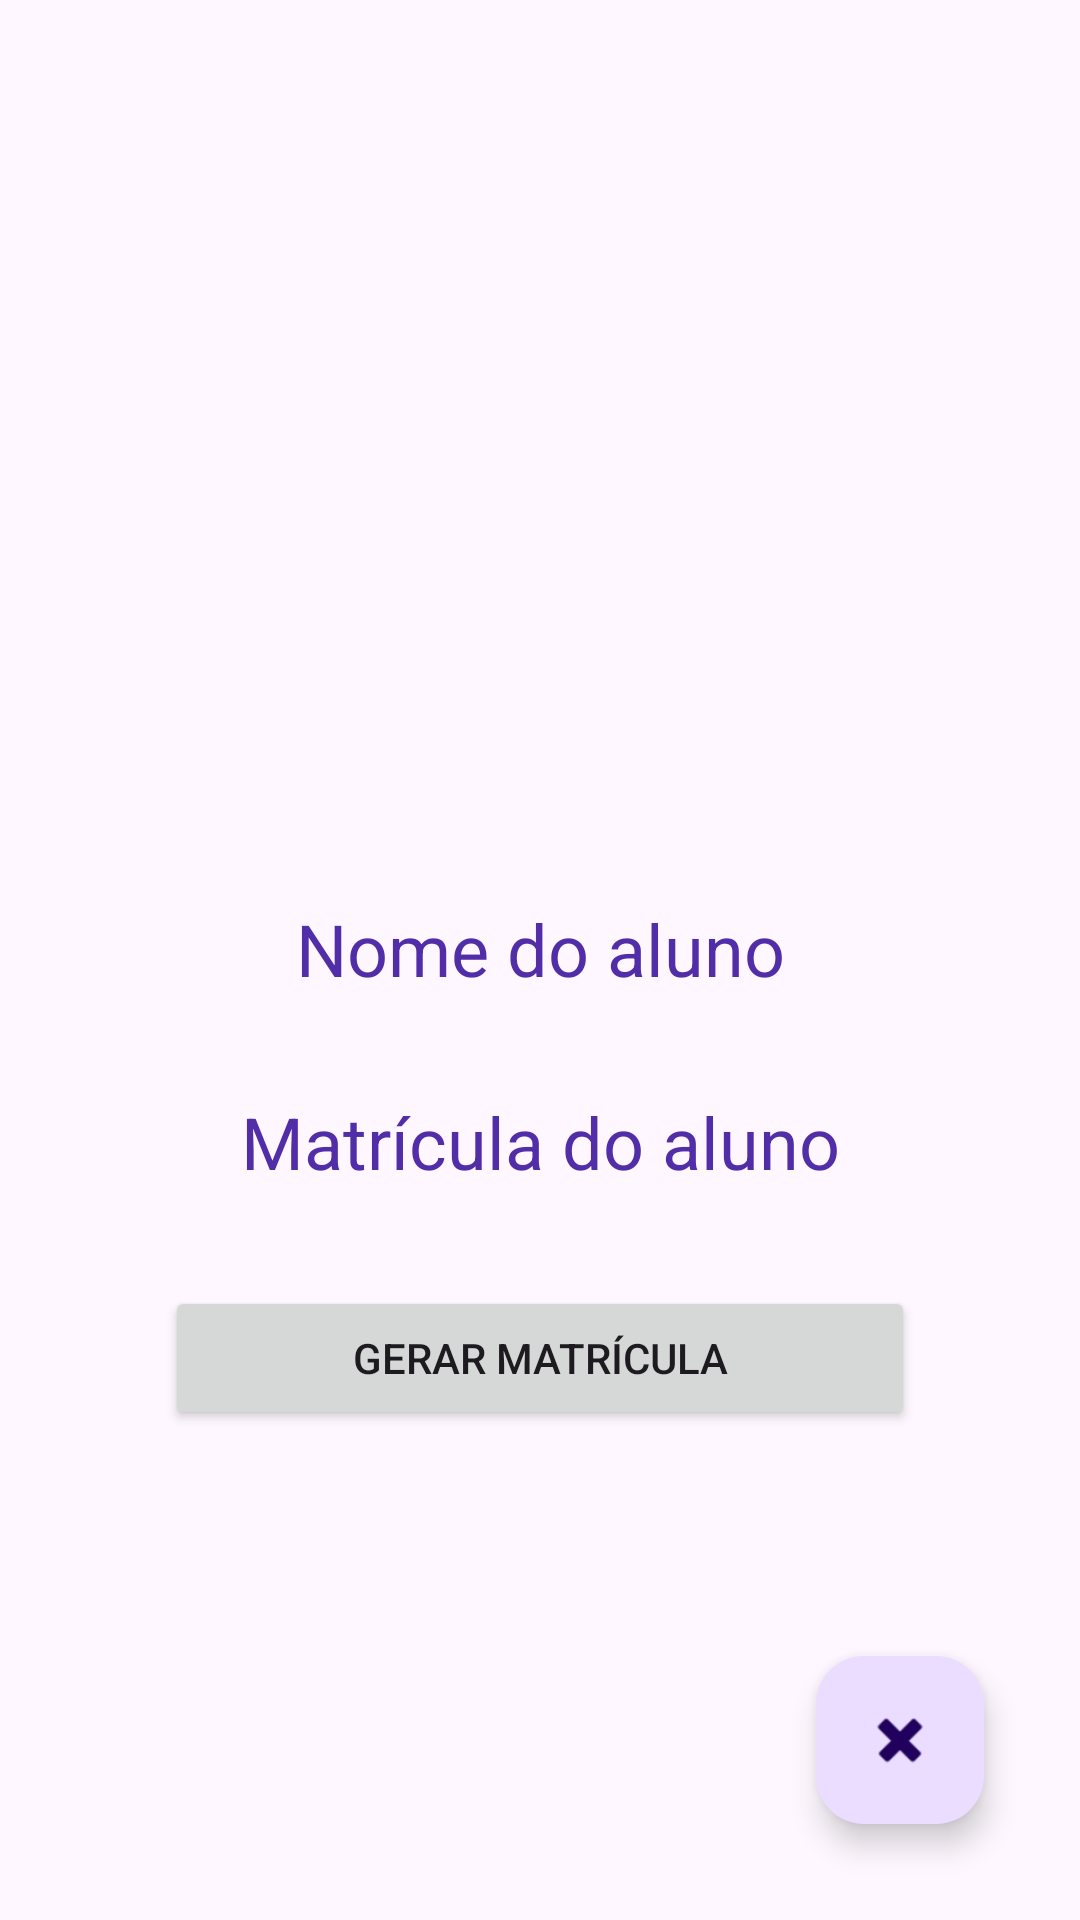

Screen size 1080 × 1920. Icon name, then its center in pixels as (x,y):
Volta tela: (900,1740)
